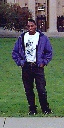person: (7, 15, 56, 113)
